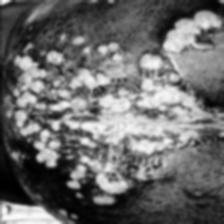Toxin: (9, 36, 224, 208), (186, 0, 224, 31), (88, 1, 118, 8)
